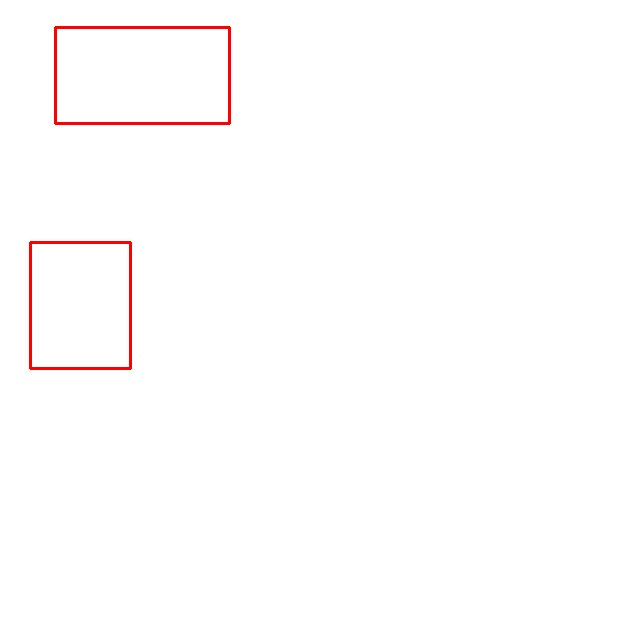weapon: (55, 28, 229, 123), (30, 243, 130, 368)
